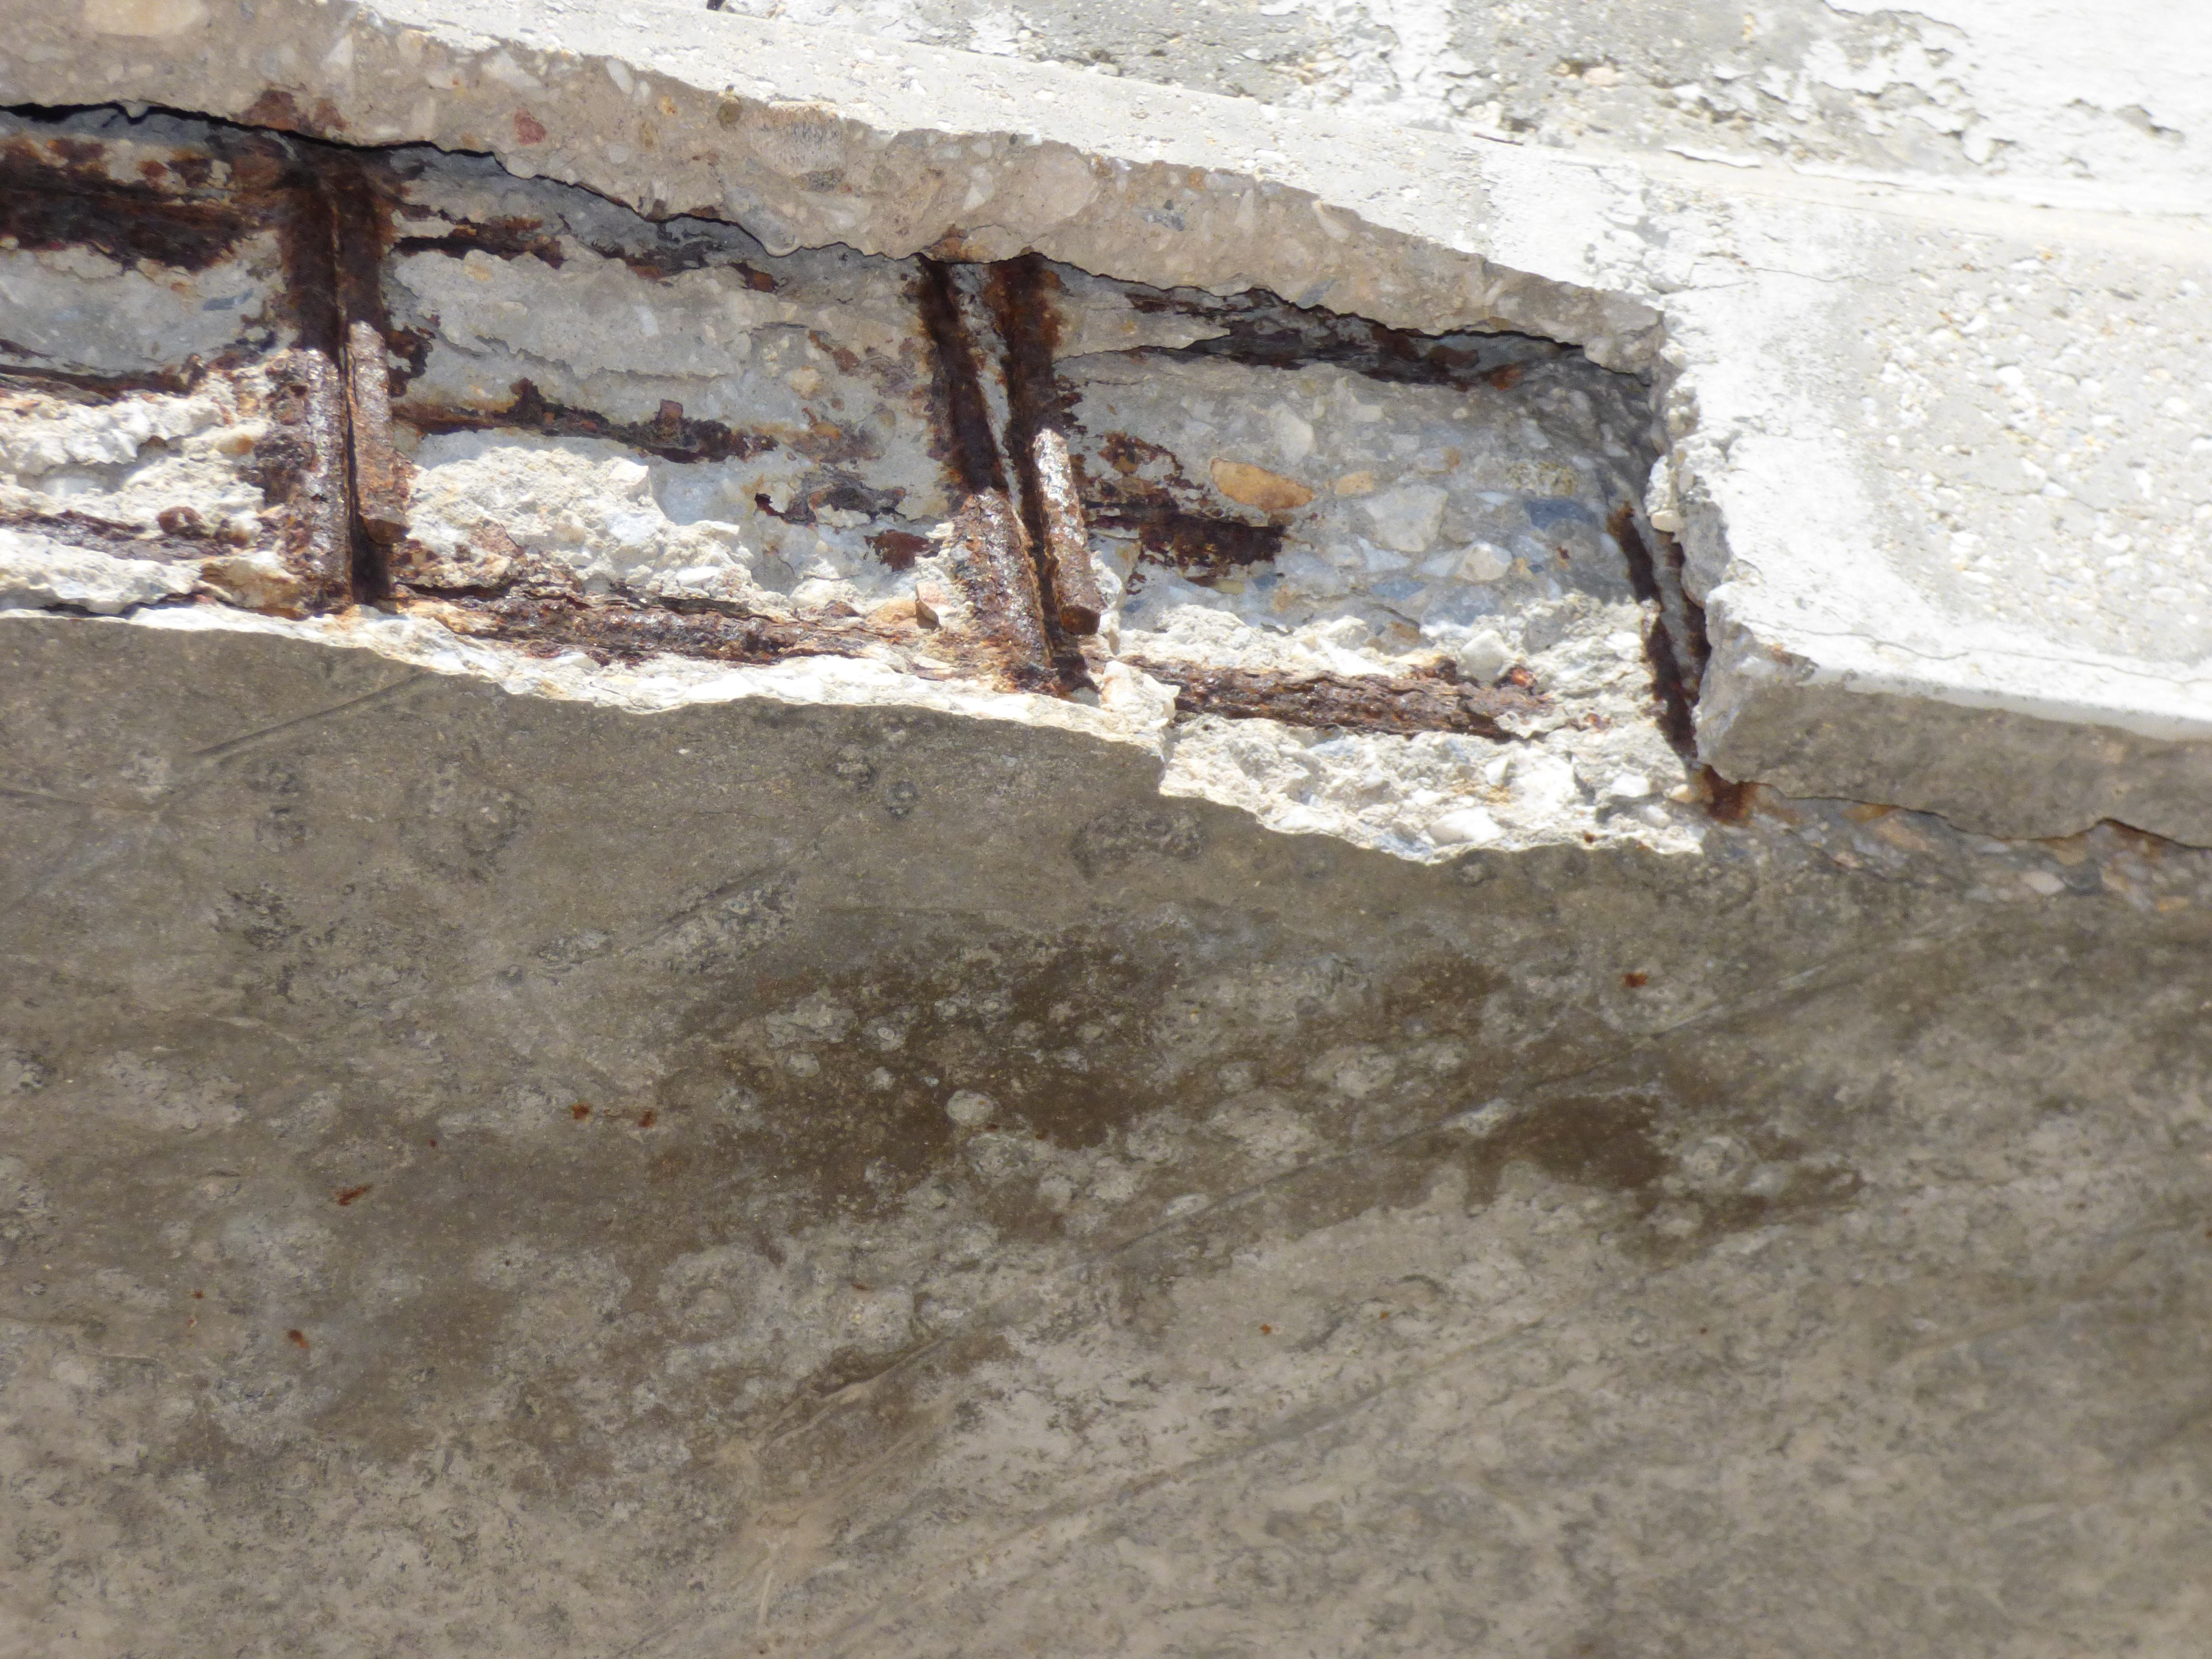Corrosion: (388, 519, 996, 680), (1080, 648, 1555, 739), (1122, 289, 1521, 394), (1068, 430, 1285, 587), (0, 136, 254, 270), (392, 376, 779, 464), (754, 329, 916, 528), (394, 213, 564, 272), (590, 221, 728, 281), (860, 528, 944, 573), (1702, 763, 1750, 826), (721, 261, 780, 295)
Crack: (1696, 760, 2212, 850), (1750, 617, 2212, 685)
Exposed reinforcement: (920, 260, 1052, 687), (1001, 253, 1101, 636), (333, 166, 411, 547), (291, 169, 354, 605), (1143, 666, 1508, 737), (441, 592, 805, 652), (1618, 519, 1691, 742), (0, 509, 233, 568), (0, 361, 190, 394), (395, 239, 491, 253)
Spalling: (0, 0, 1750, 863)
